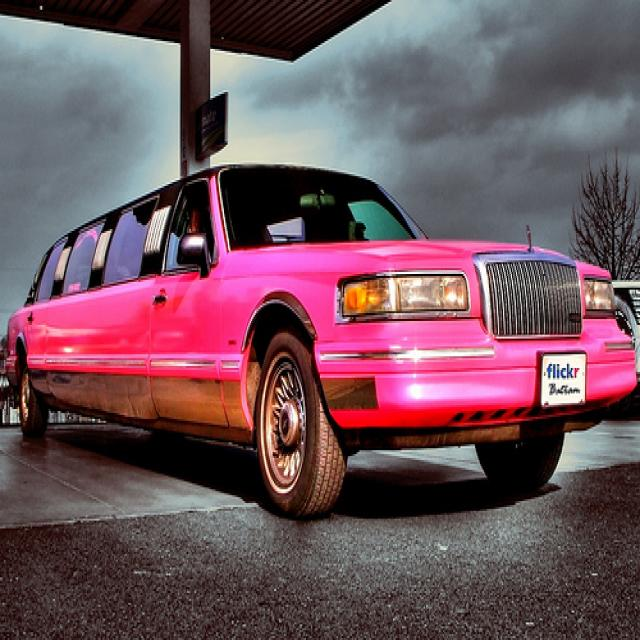Car: (5, 160, 636, 524)
